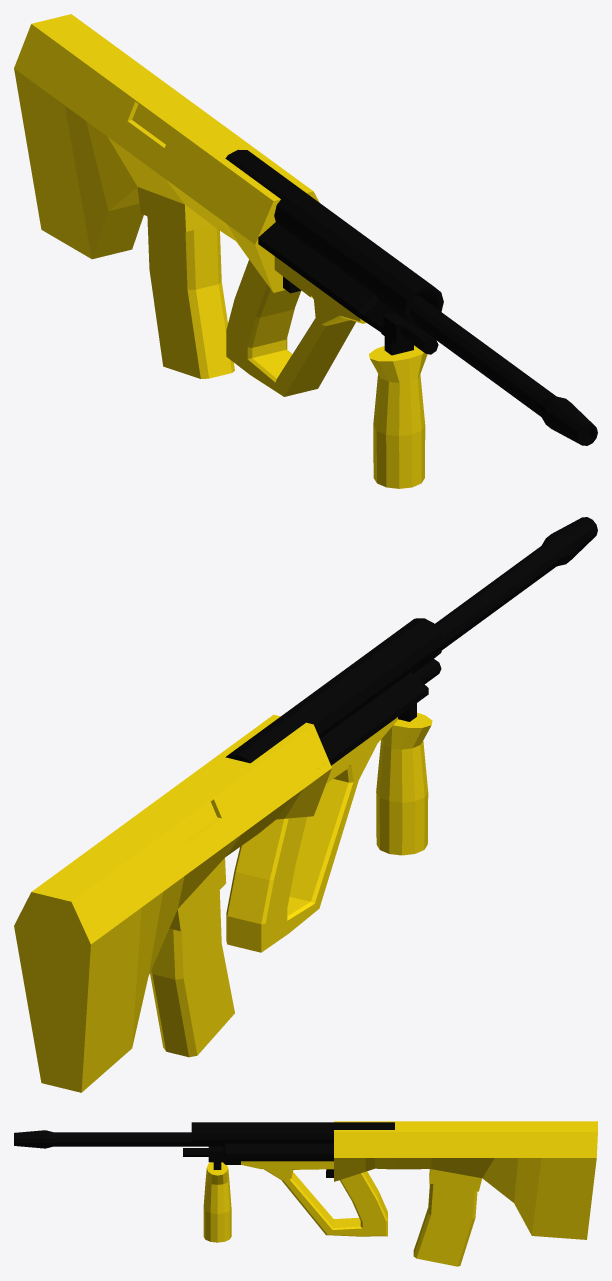
File: aug.fbx
3 renders of one model, top to bottom at view 1: azimuth 30°, elevation 25°; view 2: azimuth 150°, elevation 25°; view 3: azimuth 270°, elevation 25°, orthographic. The views are drawn at different scales.
Parts seen in each view (by area): view 1: AssaultRIfle_03.001; view 2: AssaultRIfle_03.001; view 3: AssaultRIfle_03.001.
Boxes of the visible parts, x1,y1,x2,y2 form: AssaultRIfle_03.001: (14, 14, 597, 488); AssaultRIfle_03.001: (14, 517, 597, 1092); AssaultRIfle_03.001: (14, 1121, 597, 1266).
Bounding box in the file's own units: 33.33 × 106 × 402.
